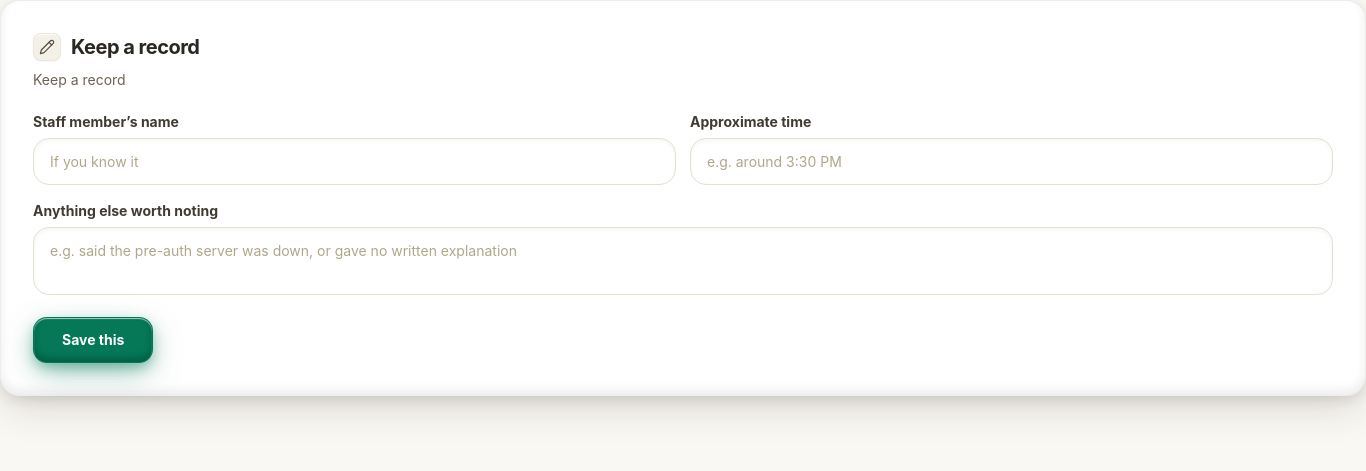
Test: EvidenceForm › blocks submission when all three fields are empty, matching the backend's at-least-one-field rule
The width and height of the screenshot is (1366, 471).
Click the button "Save this": (93, 340) [33, 317, 153, 363]
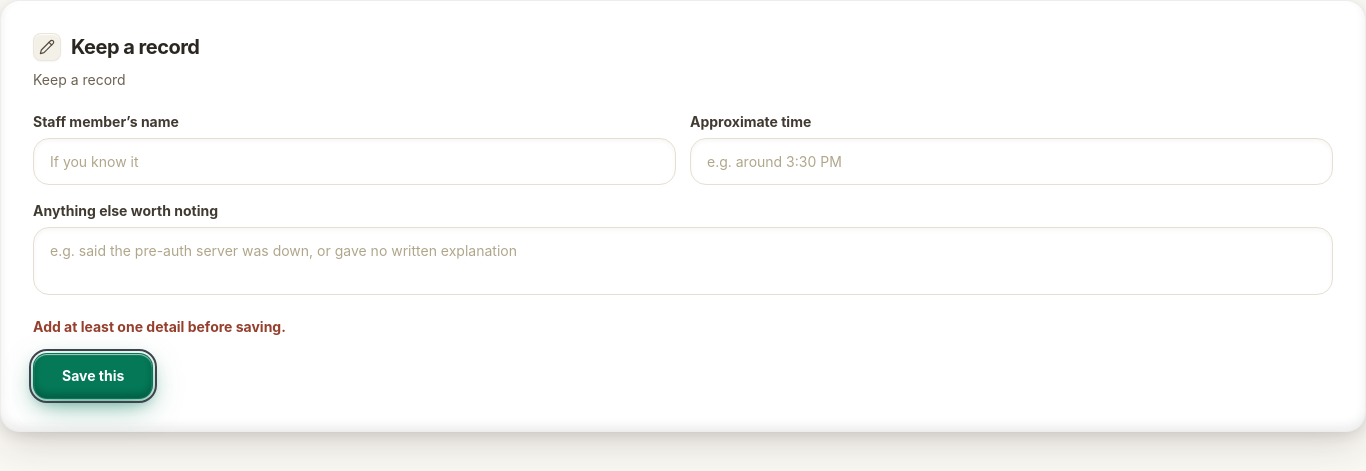
Now the message shows "Add at least one detail", box [33, 318, 286, 335]
